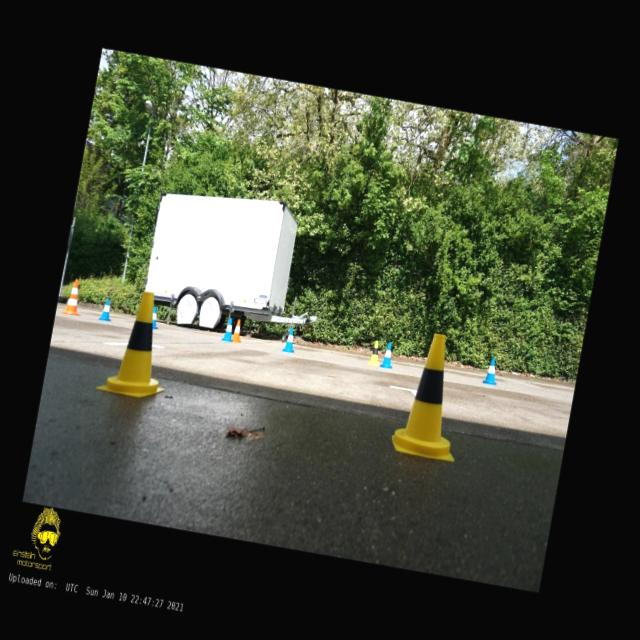blue_cone: (378, 340, 396, 369), (482, 356, 500, 384), (280, 327, 298, 352), (98, 298, 114, 322), (221, 317, 236, 342), (149, 305, 161, 329)
large_orange_cone: (60, 277, 86, 316)
orange_cone: (232, 318, 244, 342)
yellow_cone: (388, 328, 474, 462), (94, 284, 180, 402), (367, 340, 382, 366)
